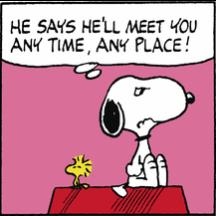snoopy: (98, 72, 196, 198)
